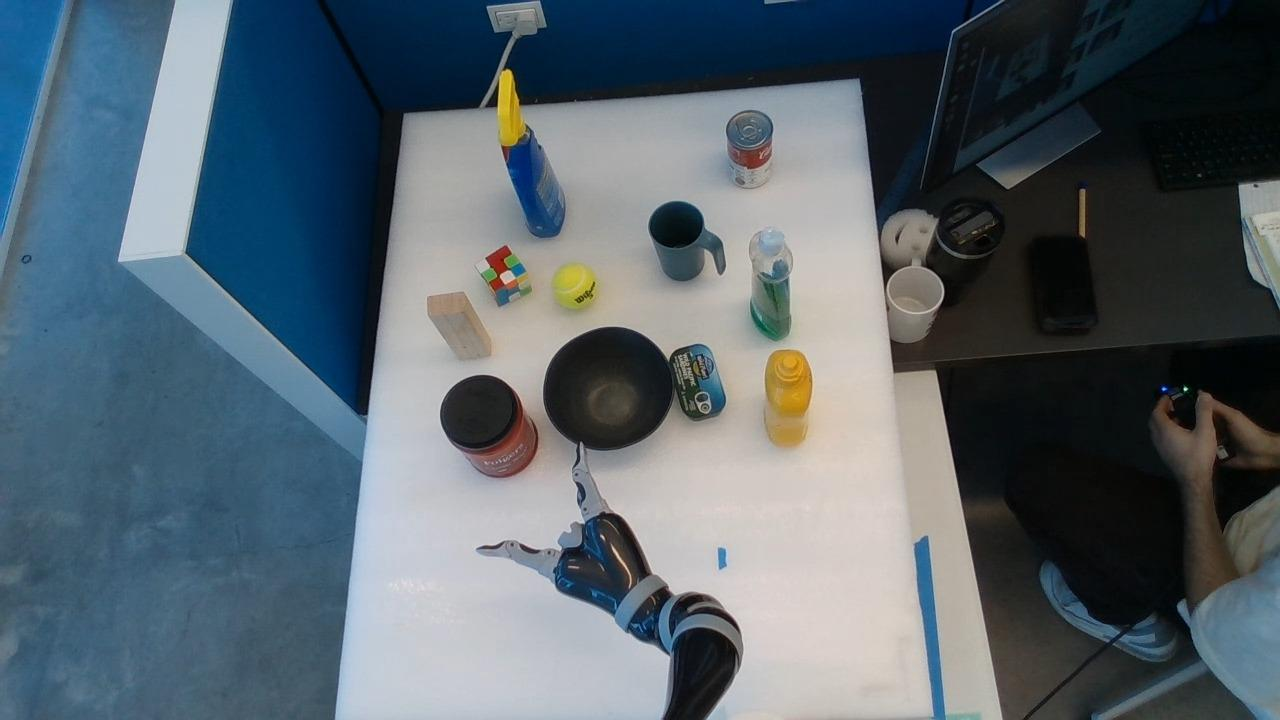bowl: (544, 327, 673, 449)
cleanser: (749, 227, 791, 339)
coffee_can: (440, 375, 537, 477)
jaco: (477, 444, 650, 614)
meat_can: (669, 344, 725, 420)
mug: (649, 201, 723, 280)
mustard_bottle: (764, 349, 812, 446)
rubik: (475, 245, 531, 305)
soup_can: (726, 110, 771, 188)
tennis_ball: (553, 263, 596, 308)
windex: (495, 70, 564, 237)
wooden_block: (427, 292, 491, 359)
workspace: (336, 80, 931, 719)
